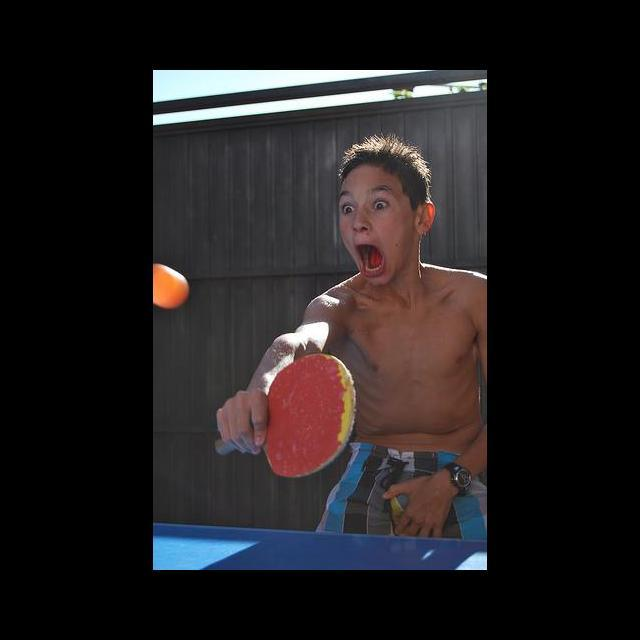ping-pong-ball: (153, 260, 192, 311)
